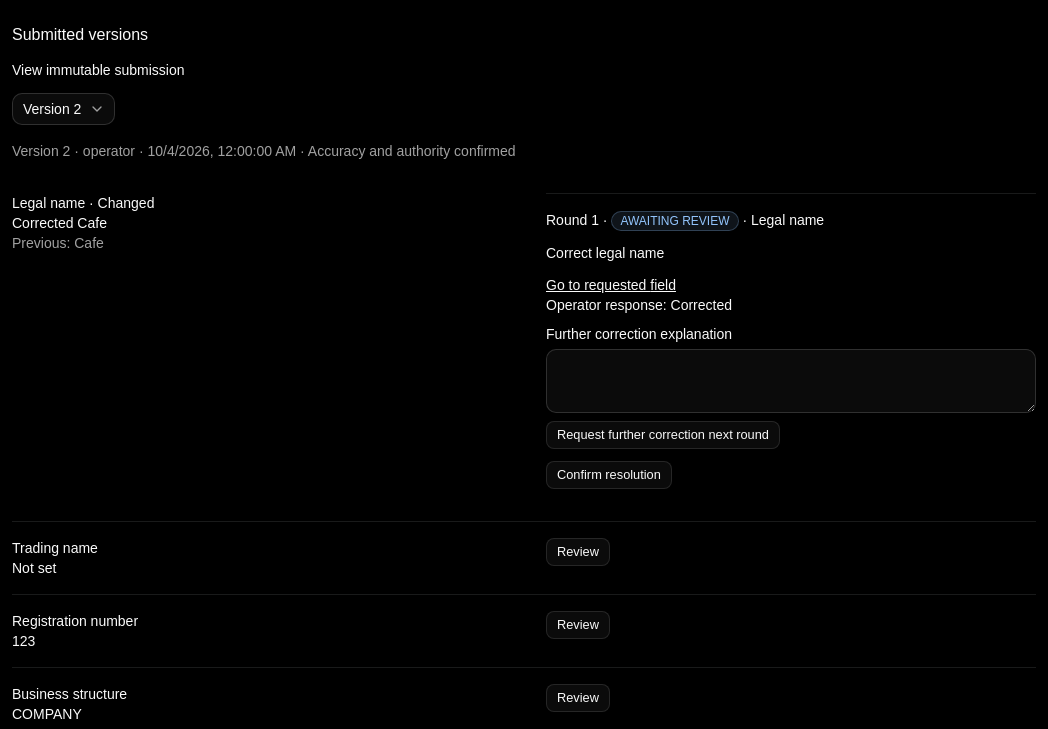
Test: officer confirms resolution, can reissue and publishes a fixed round
The width and height of the screenshot is (1048, 729).
Click the button "Confirm resolution". click: (609, 475)
box: [546,461,672,489]
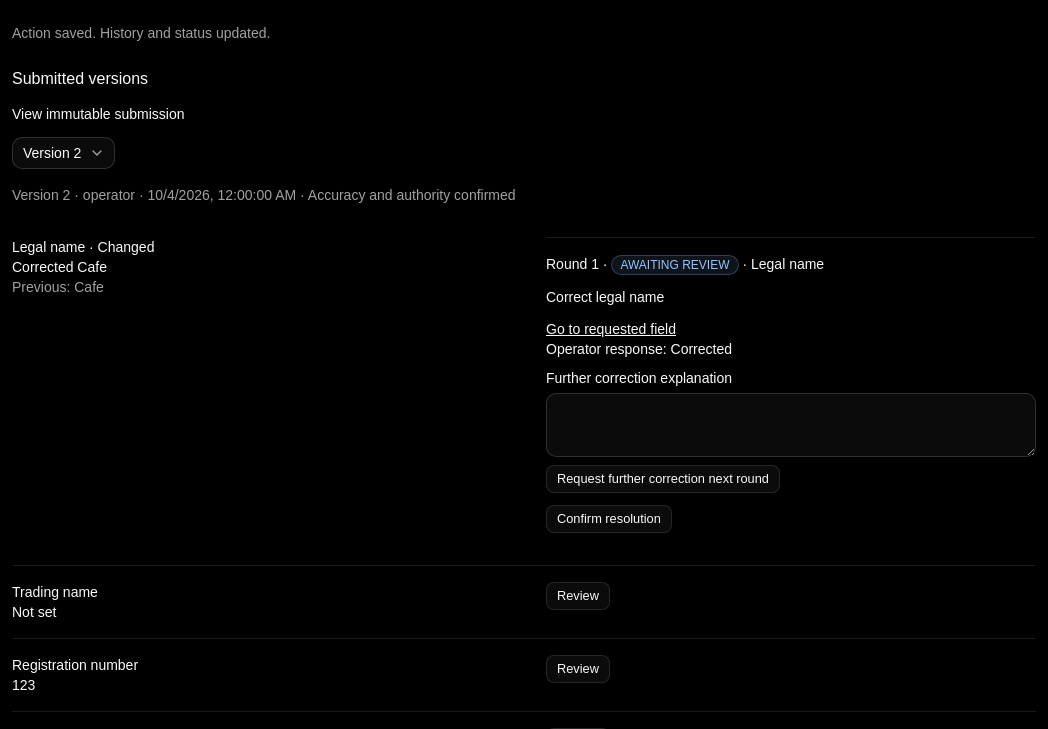
Type "Still incomplete" into the text box labelled "Further correction explanation". click: (791, 425)
box: [546,393,1036,457]
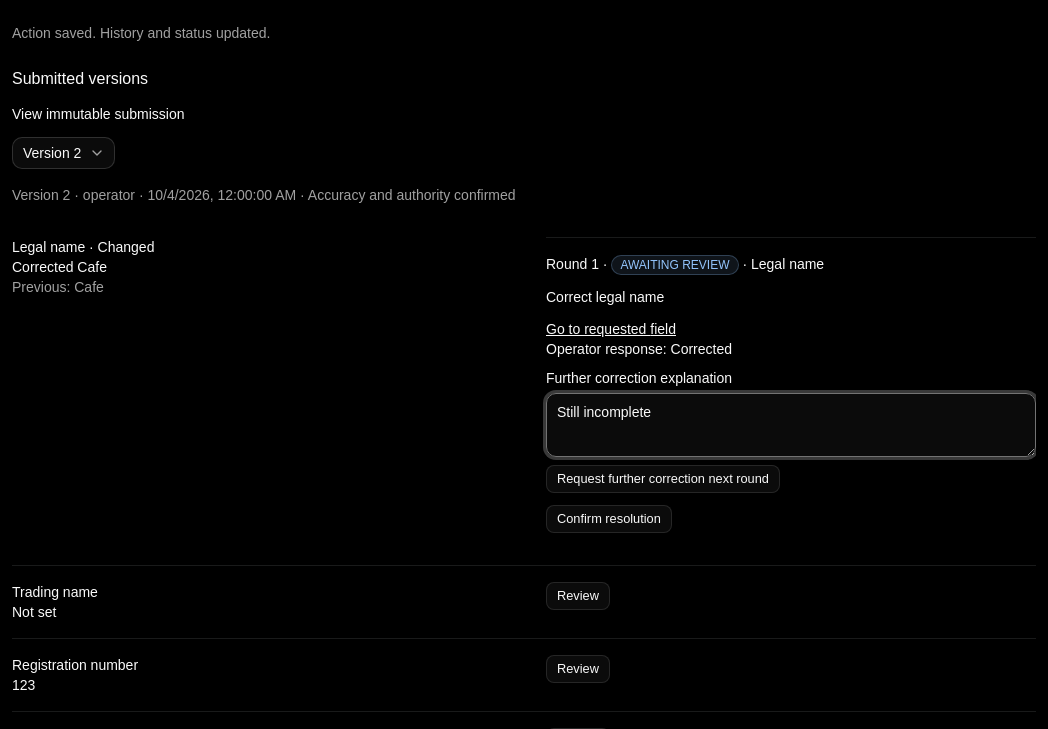
Click the button "Request further correction next round". click: (663, 479)
box: [546,465,780,493]
(page scrolled)
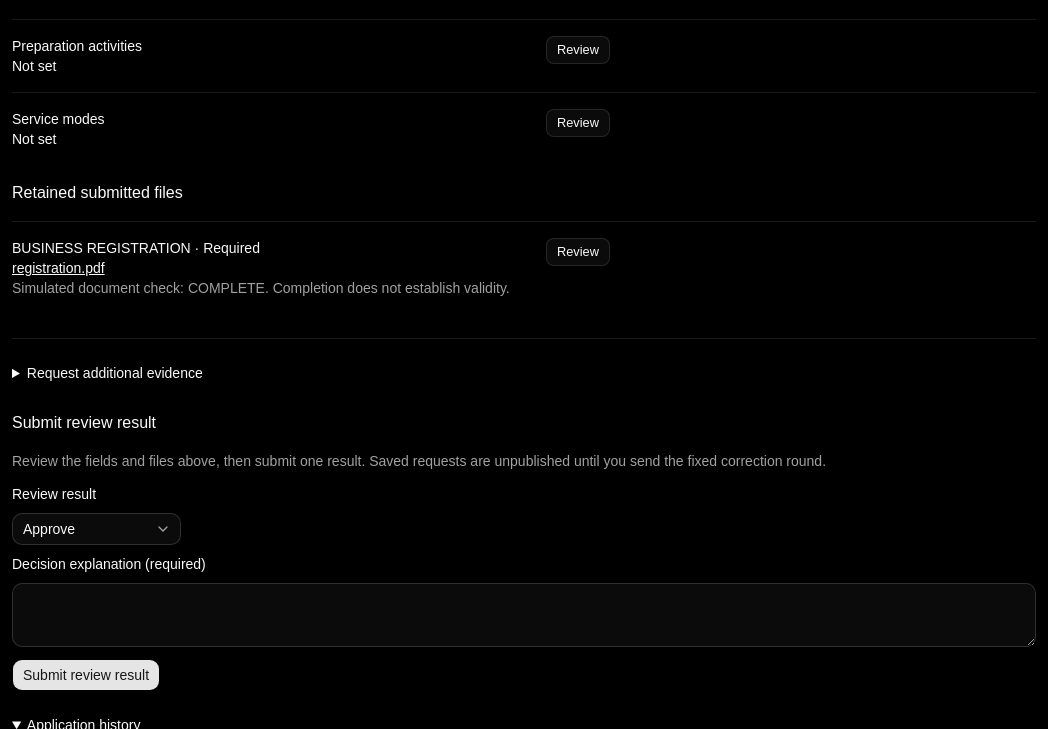
Select "Request corrections" in the dropdown labelled "Review result". click: (96, 529)
box: [12,513,181,545]
(page scrolled)
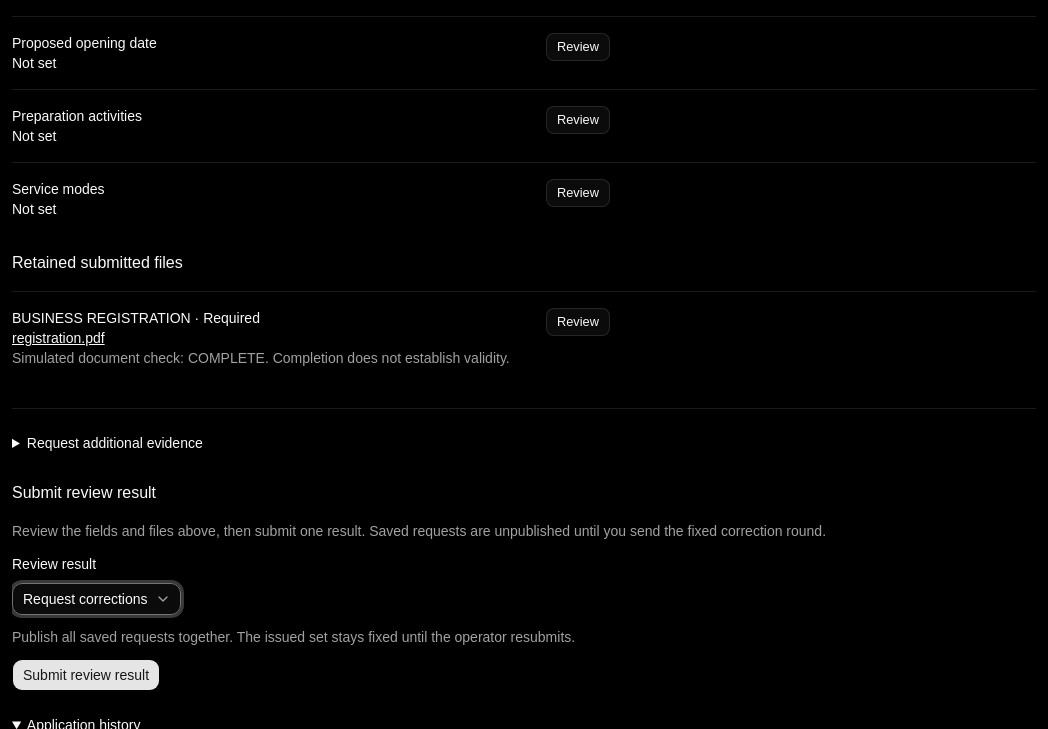
Click the button "Submit review result". click: (86, 675)
box: [12,659,160,691]
(page scrolled)
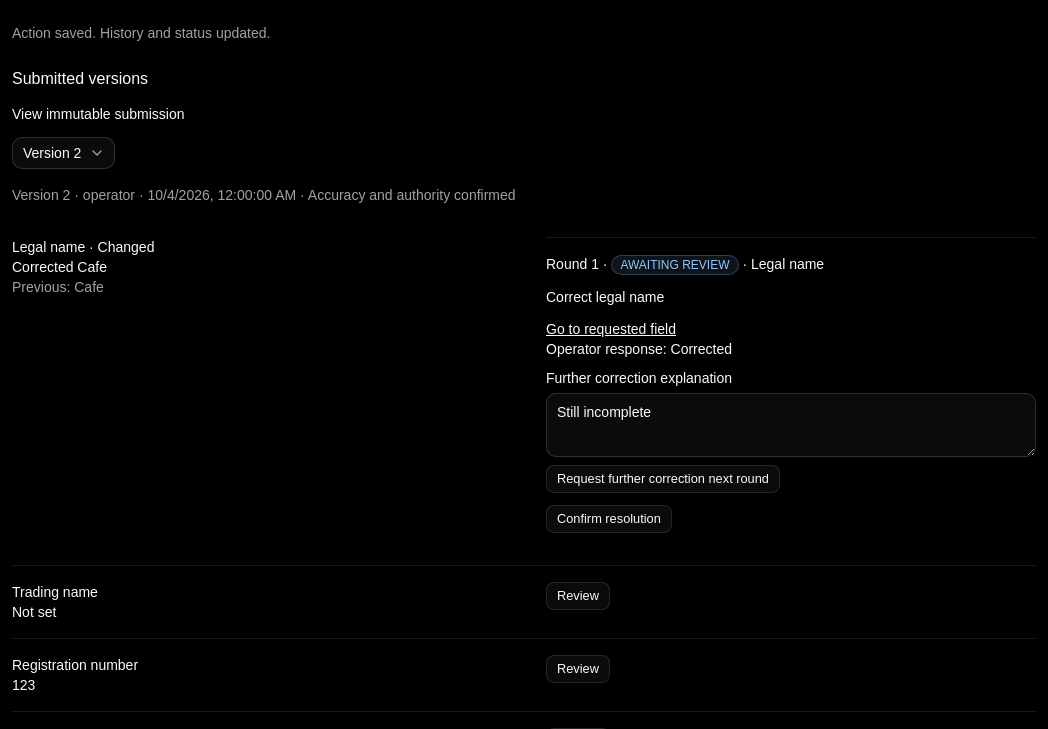
expect the text "Legal name · Changed" is shown: met, box [12,239,154,255]
Select "Version 1" in the dropdown labelled "View immutable submission". click: (64, 153)
box: [12,137,115,169]
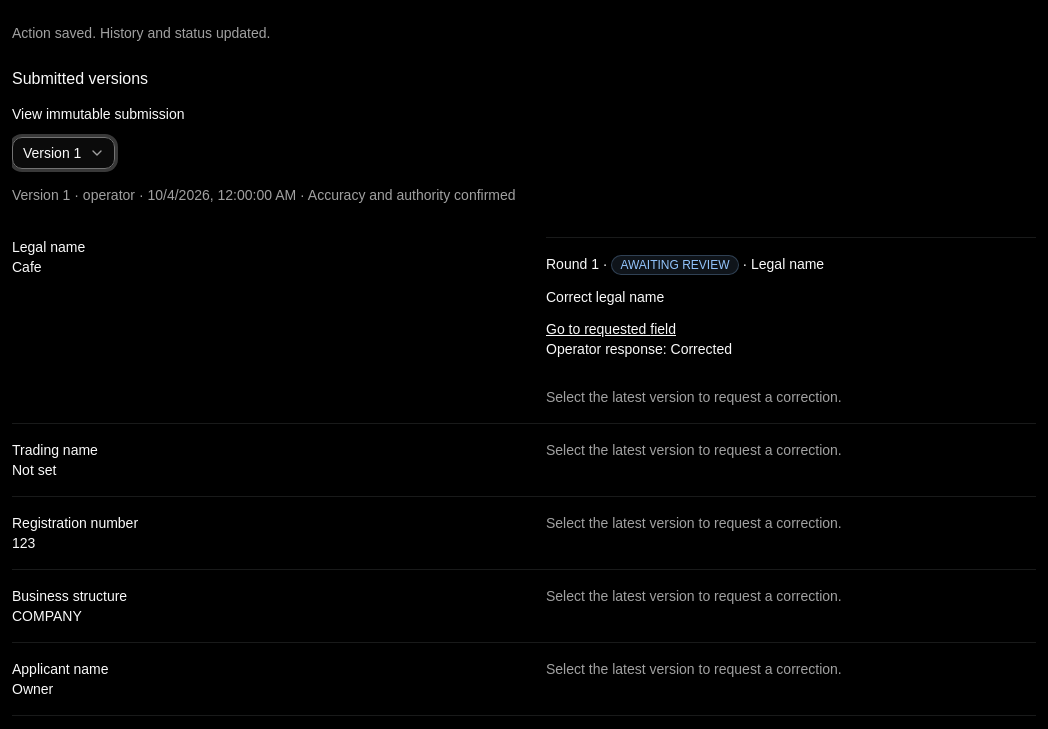
expect the text "Legal name · Changed" is gone: met
